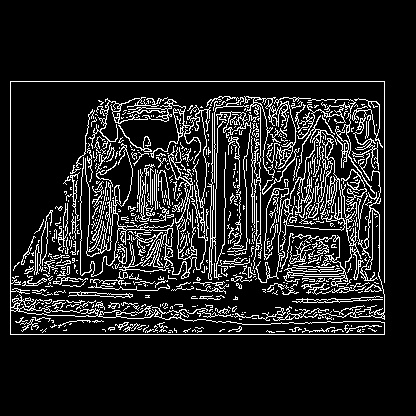buddha-pyre: (287, 130, 347, 276), (118, 135, 180, 276)
